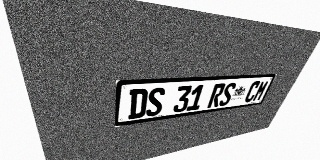1: (186, 84, 206, 111)
3: (172, 85, 193, 113)
C: (243, 81, 261, 103)
D: (128, 88, 148, 120)
M: (252, 80, 270, 102)
R: (207, 83, 226, 108)
S: (145, 87, 166, 117), (218, 82, 237, 106)
